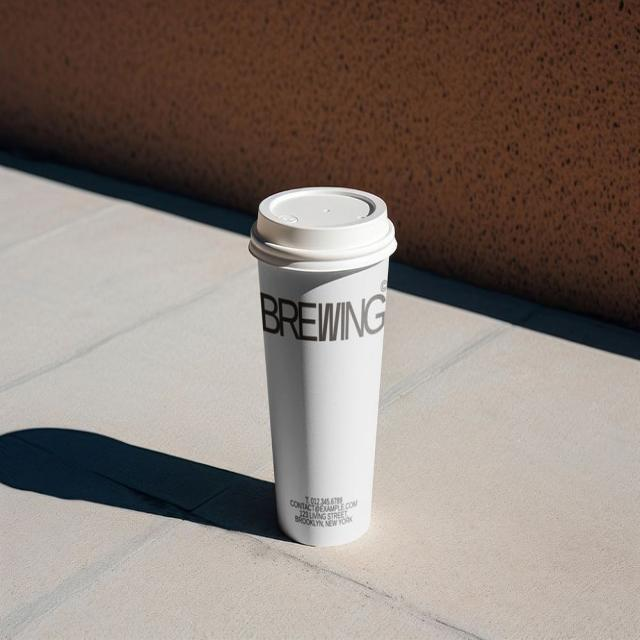paper cup: (248, 187, 397, 546)
